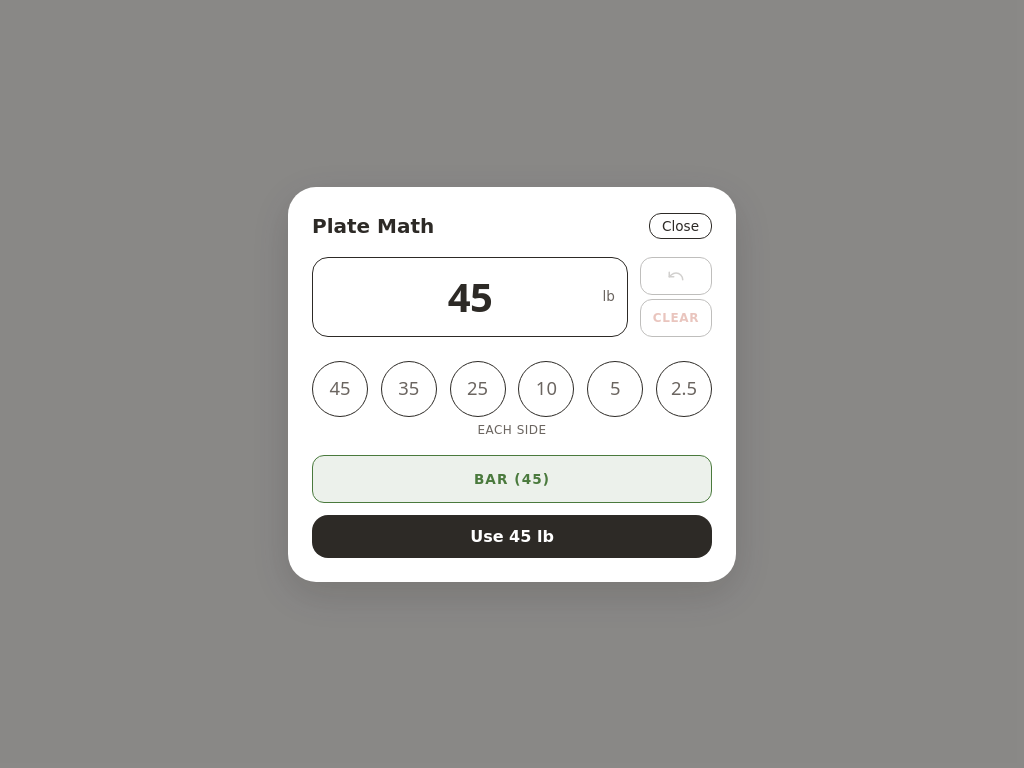
Test case: PlateCalculator › addPlate › tapping 45 twice shows 2x count and 225 total
The image size is (1024, 768).
Click the button "45".
click(340, 388)  # box x1=312 y1=360 x2=368 y2=416
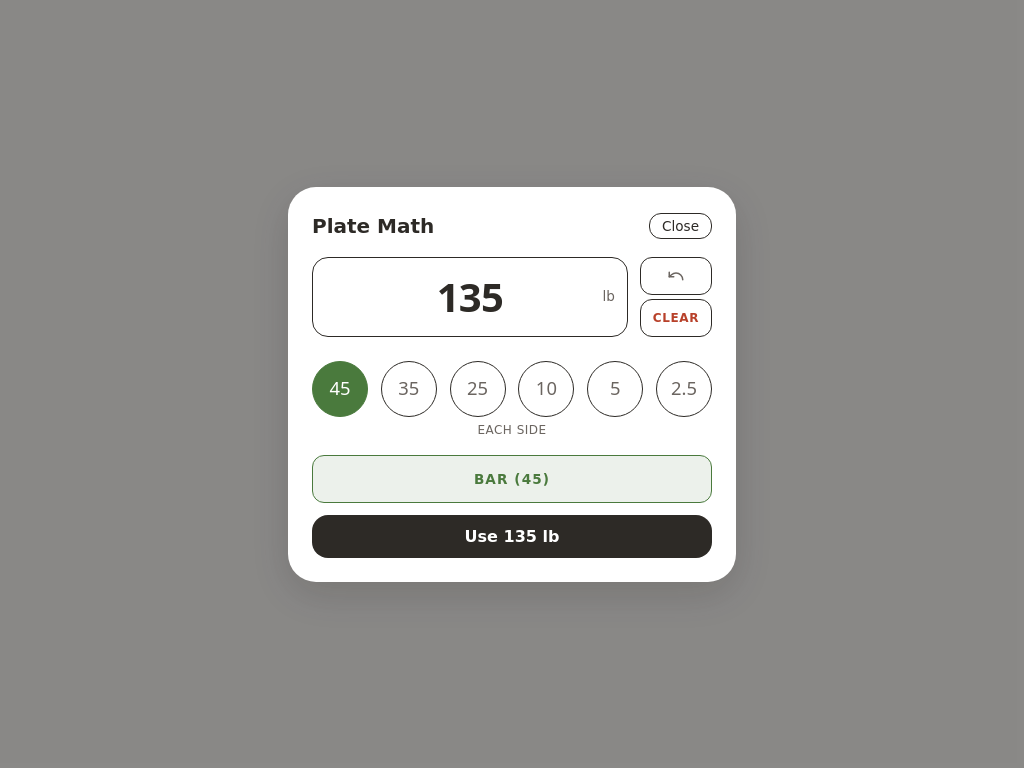
Click the button "45".
click(340, 388)  # box x1=312 y1=360 x2=368 y2=416
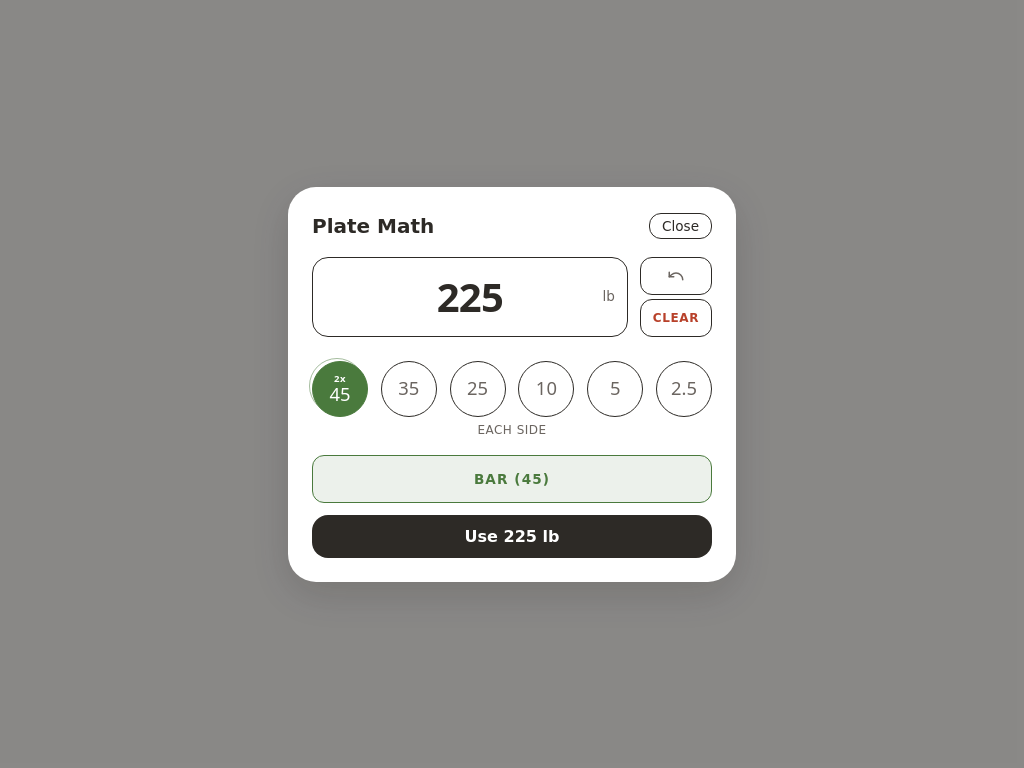
Result: the number field holds "225" at x1=313 y1=258 x2=627 y2=336
Result: the button "2x 45" is shown at x1=312 y1=360 x2=368 y2=416
